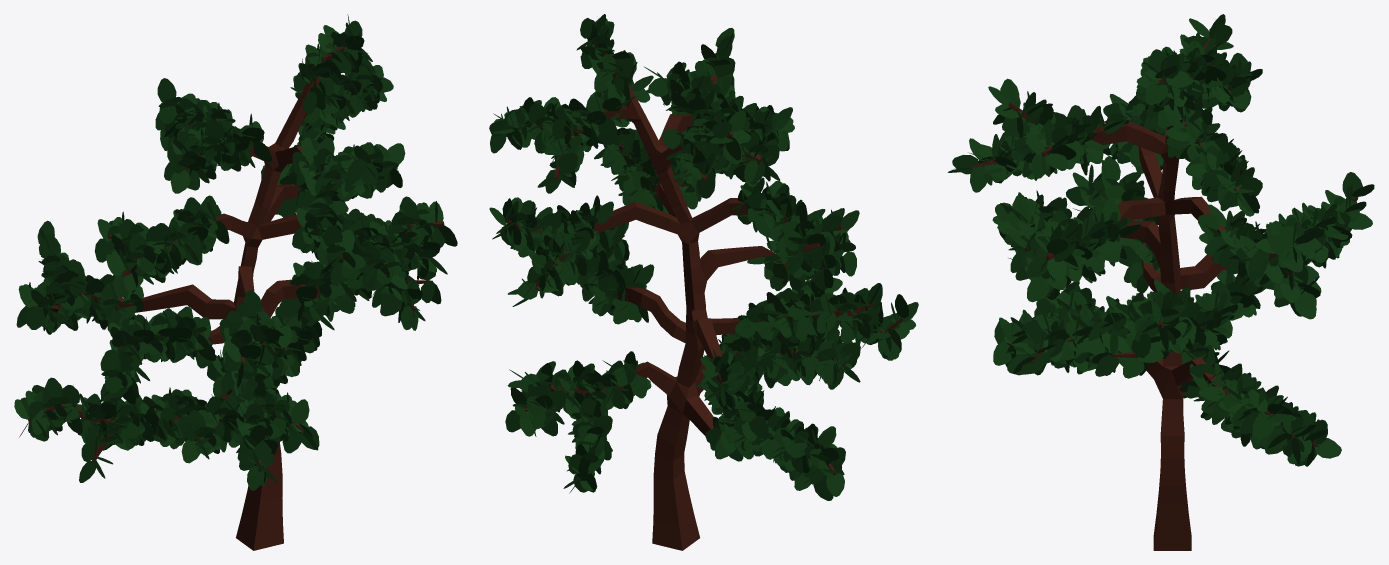
Rendered from Arbol2 1.fbx.
The picture shows the model from 3 angles, left to right: view 1: azimuth 30°, elevation 25°; view 2: azimuth 150°, elevation 25°; view 3: azimuth 270°, elevation 25°; orthographic projection. The views are drawn at different scales.
Parts seen in each view (by area): view 1: Arbol2; view 2: Arbol2; view 3: Arbol2.
Part boxes in pixels (left/top/right/bottom): Arbol2: left=28, top=46, right=444, bottom=550; Arbol2: left=506, top=44, right=903, bottom=550; Arbol2: left=971, top=38, right=1357, bottom=550.
Size of the model in its own units: 972 by 1302 by 941.
